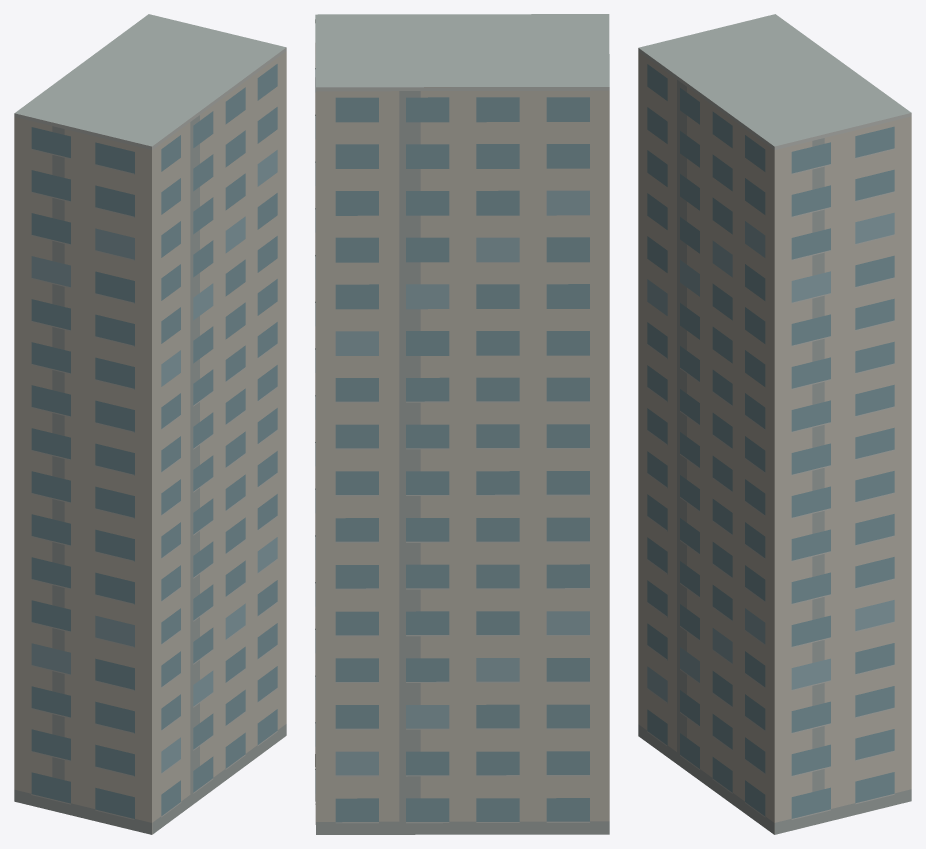
File: residential-b7a49afa-c0a8-4fce-9564-eee44cbdedc2.glb
The picture shows the model from 3 angles, left to right: view 1: azimuth 30°, elevation 25°; view 2: azimuth 150°, elevation 25°; view 3: azimuth 270°, elevation 25°; orthographic projection. The views are drawn at different scales.
Parts seen in each view (by area): view 1: residential-b7a49afa-c0a8-4fce-9564-eee44cbdedc2.tmp; view 2: residential-b7a49afa-c0a8-4fce-9564-eee44cbdedc2.tmp; view 3: residential-b7a49afa-c0a8-4fce-9564-eee44cbdedc2.tmp.
Boxes of the visible parts, <box> form: residential-b7a49afa-c0a8-4fce-9564-eee44cbdedc2.tmp: <box>14,14,286,834</box>; residential-b7a49afa-c0a8-4fce-9564-eee44cbdedc2.tmp: <box>315,14,609,834</box>; residential-b7a49afa-c0a8-4fce-9564-eee44cbdedc2.tmp: <box>638,14,911,834</box>.
Size of the model in its own units: 19.01 by 46 by 16.56.
